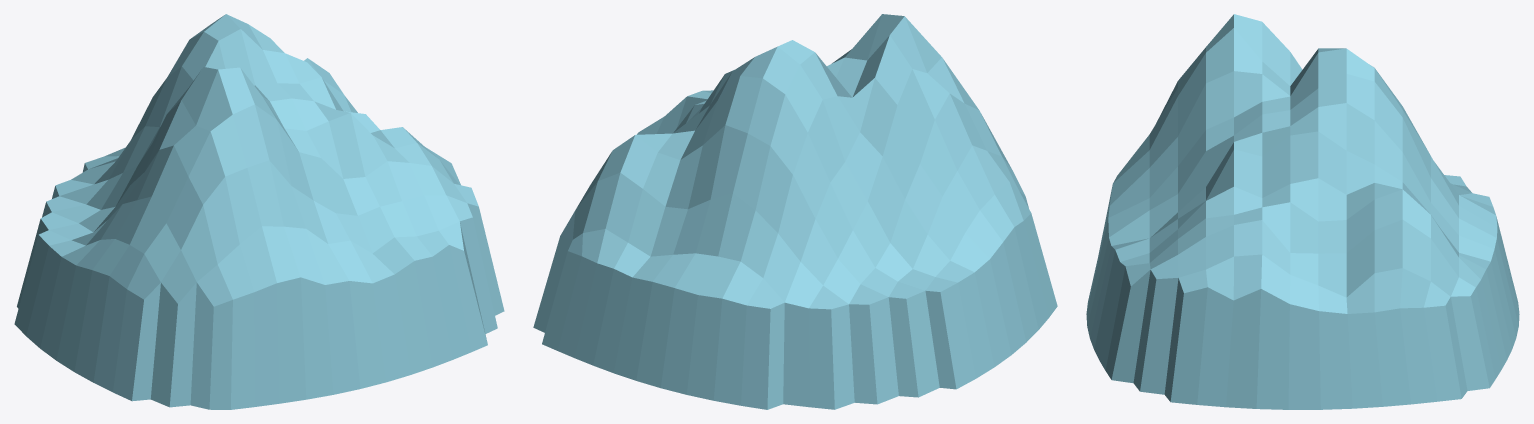
File: ice_berg.glb
3 views of the same model, side by side, from view 1: azimuth 30°, elevation 25°; view 2: azimuth 150°, elevation 25°; view 3: azimuth 270°, elevation 25° (orthographic). The views are drawn at different scales.
Parts seen in each view (by area): view 1: Plane.001; view 2: Plane.001; view 3: Plane.001.
Boxes of the visible parts, x1=… form: Plane.001: x1=14, y1=14, x2=504, y2=409; Plane.001: x1=533, y1=14, x2=1057, y2=409; Plane.001: x1=1086, y1=14, x2=1519, y2=409.
Bounding box in the file's own units: 8.81 × 5.84 × 8.51.
